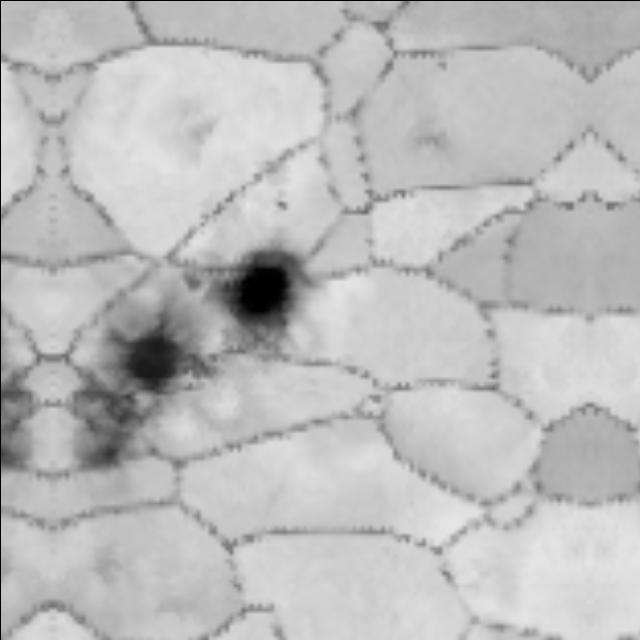good_void: (12, 273, 235, 496), (90, 54, 240, 189), (190, 236, 329, 381), (0, 319, 48, 481), (386, 82, 468, 171), (174, 261, 213, 301), (272, 196, 294, 217)
